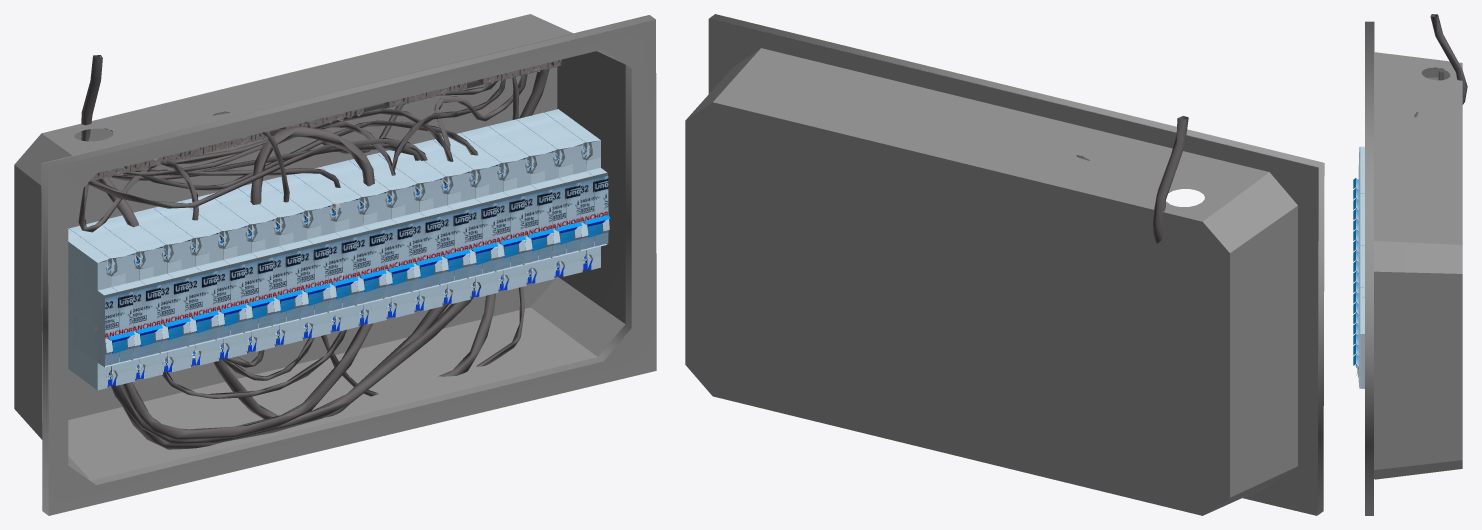
File: field wiring.glb
3 renders of one model, left to right at view 1: azimuth 30°, elevation 25°; view 2: azimuth 150°, elevation 25°; view 3: azimuth 270°, elevation 25°, orthographic. The views are drawn at different scales.
Visible parts, largest first — view 1: Plane.001; view 2: Plane.001; view 3: Plane.001.
Part boxes in pixels (x1=…): Plane.001: x1=14, y1=14, x2=656, y2=515; Plane.001: x1=685, y1=14, x2=1324, y2=515; Plane.001: x1=1353, y1=14, x2=1467, y2=515.
Bounding box in the file's own units: 5.3 × 3.37 × 1.13.
7 materials, 1 textured.
